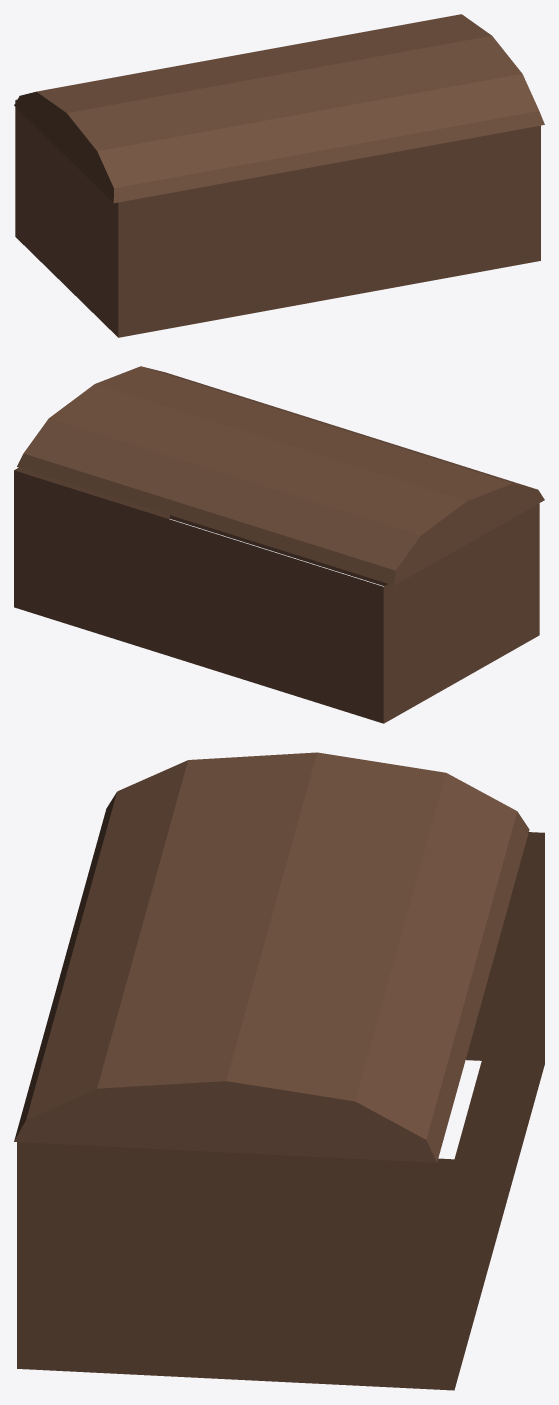
The model's file is Office2_box_7.fbx.
The picture shows the model from 3 angles, top to bottom: view 1: azimuth 30°, elevation 25°; view 2: azimuth 150°, elevation 25°; view 3: azimuth 270°, elevation 25°; orthographic projection. The views are drawn at different scales.
Parts seen in each view (by area): view 1: Office2_box_7; view 2: Office2_box_7; view 3: Office2_box_7.
Part boxes in pixels (x1,y1,x2,y2): Office2_box_7: (14,14,544,337); Office2_box_7: (14,366,544,723); Office2_box_7: (14,752,544,1390).
Bounding box in the file's own units: 25.56 × 16.2 × 10.05.
